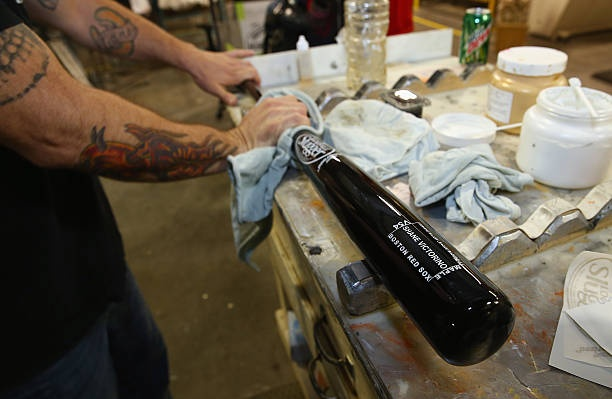bita: (240, 86, 517, 369)
